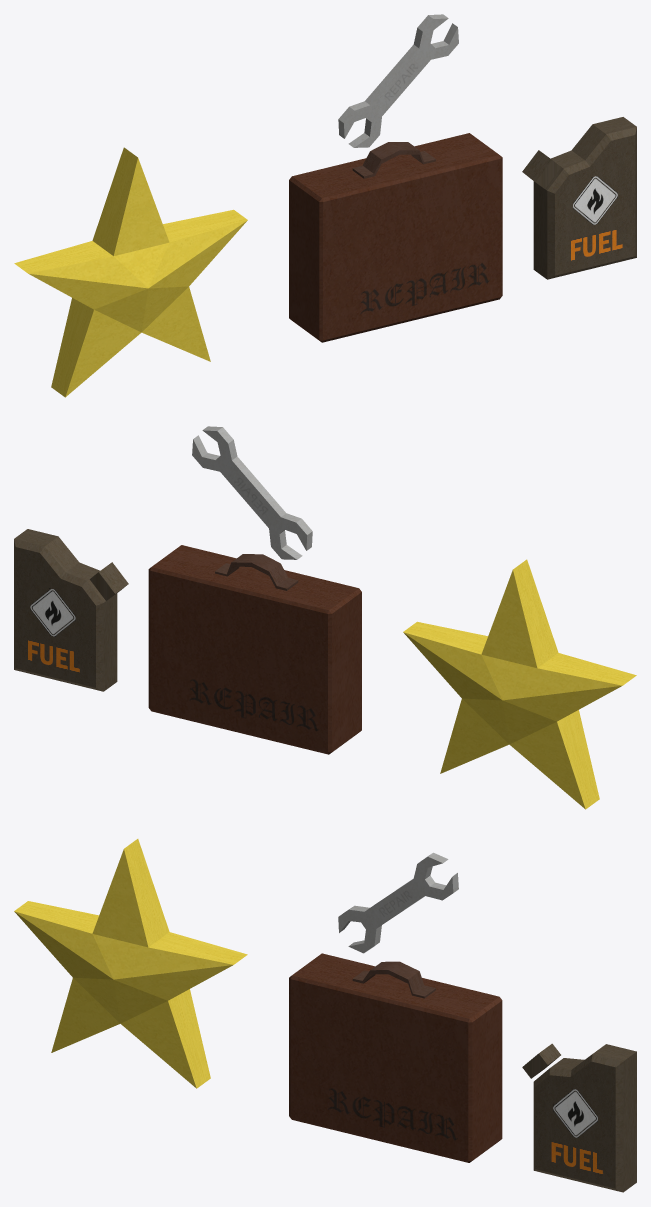
Rendered from PowreUps.FBX.
3 views of the same model, one above another, from view 1: azimuth 30°, elevation 25°; view 2: azimuth 150°, elevation 25°; view 3: azimuth 330°, elevation 25° (orthographic).
Visible parts, largest first — view 1: RepairBox, Star001, FuelCan; view 2: RepairBox, Star001, FuelCan; view 3: RepairBox, Star001, FuelCan.
Part boxes in pixels (left/top/right/bottom): RepairBox: left=289, top=14, right=502, bottom=342; Star001: left=14, top=147, right=247, bottom=397; FuelCan: left=522, top=117, right=636, bottom=279; RepairBox: left=148, top=426, right=361, bottom=754; Star001: left=403, top=559, right=636, bottom=809; FuelCan: left=14, top=529, right=128, bottom=691; RepairBox: left=289, top=852, right=502, bottom=1162; Star001: left=14, top=839, right=247, bottom=1088; FuelCan: left=522, top=1043, right=636, bottom=1192.
Bounding box in the file's own units: 131 × 58.35 × 12.98.
1 material, 1 textured.
